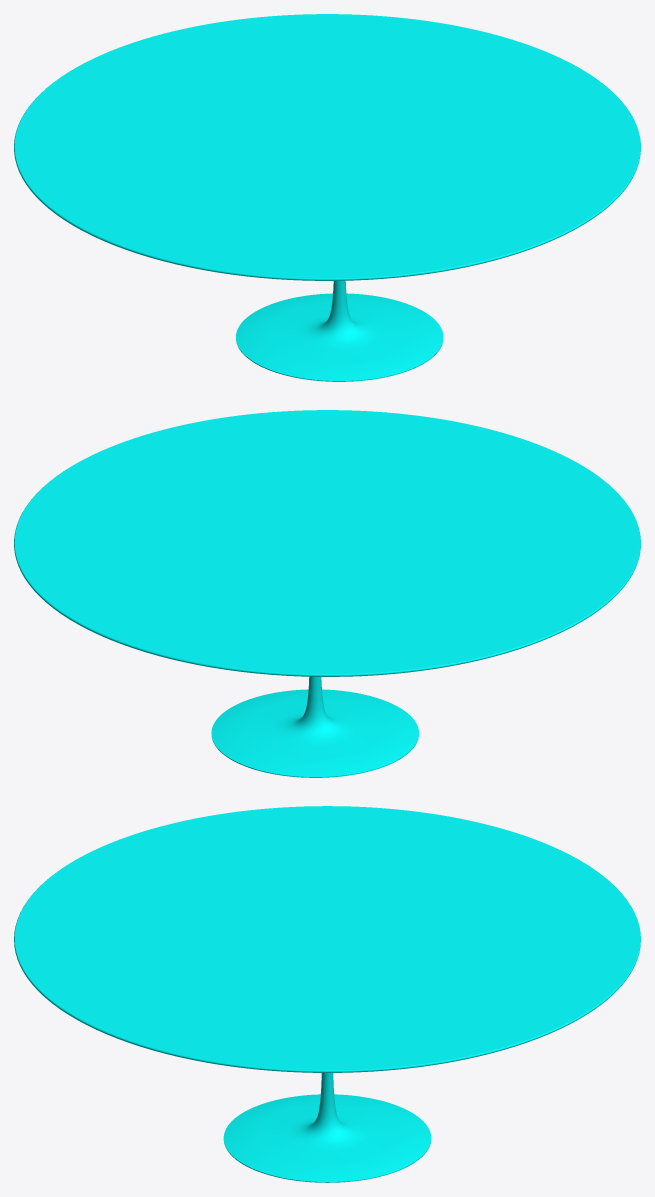
Rendered from round_table_mm.dae.
3 renders of one model, top to bottom at view 1: azimuth 30°, elevation 25°; view 2: azimuth 150°, elevation 25°; view 3: azimuth 270°, elevation 25°, orthographic.
Parts seen in each view (by area): view 1: a073bc81-3483-40f8-a579-c4db999d444d, a8d8e394-7bd0-46fd-8ad3-c28ce78524da; view 2: a073bc81-3483-40f8-a579-c4db999d444d, a8d8e394-7bd0-46fd-8ad3-c28ce78524da; view 3: a073bc81-3483-40f8-a579-c4db999d444d, a8d8e394-7bd0-46fd-8ad3-c28ce78524da.
Part boxes in pixels (box(x1,y1,x2,y2)): a073bc81-3483-40f8-a579-c4db999d444d: box(14, 14, 640, 280); a8d8e394-7bd0-46fd-8ad3-c28ce78524da: box(236, 280, 443, 381); a073bc81-3483-40f8-a579-c4db999d444d: box(14, 410, 640, 676); a8d8e394-7bd0-46fd-8ad3-c28ce78524da: box(211, 676, 418, 777); a073bc81-3483-40f8-a579-c4db999d444d: box(14, 806, 640, 1072); a8d8e394-7bd0-46fd-8ad3-c28ce78524da: box(223, 1073, 431, 1182).
Size of the model in its own units: 919 by 919 by 315.
